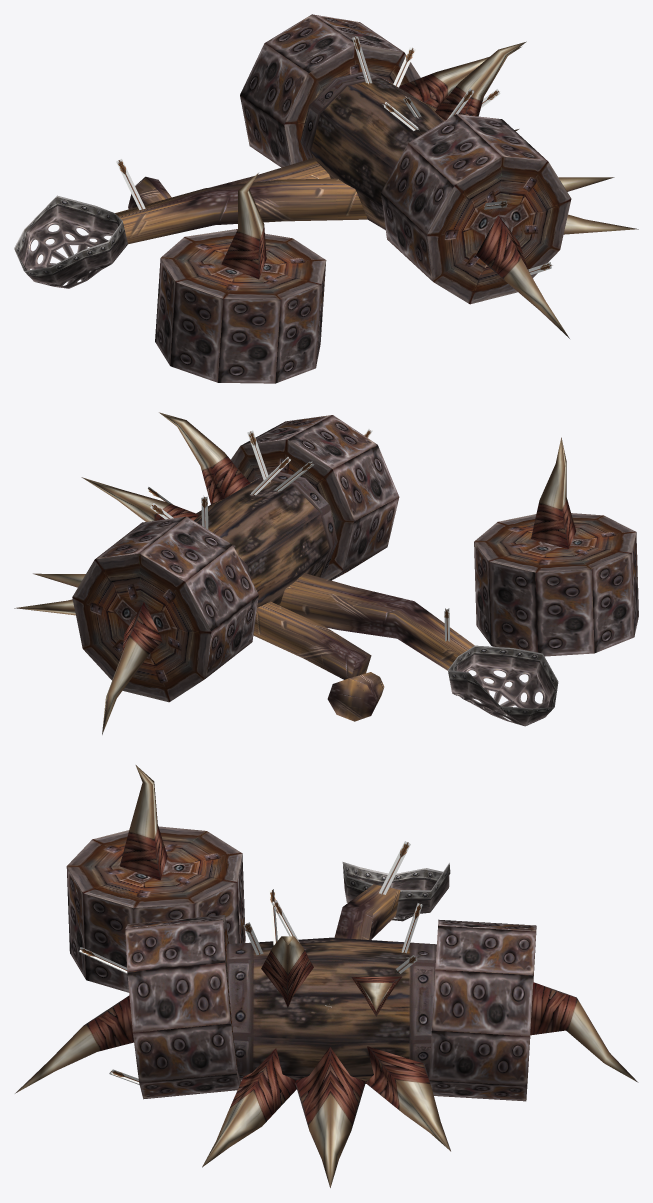
File: ruinedcatapult.obj
3 renders of one model, top to bottom at view 1: azimuth 30°, elevation 25°; view 2: azimuth 150°, elevation 25°; view 3: azimuth 270°, elevation 25°, orthographic. The views are drawn at different scales.
Visible parts, largest first — view 1: Geoset3, Geoset4, Geoset2, Geoset1, Geoset0, Geoset5; view 2: Geoset3, Geoset4, Geoset2, Geoset0, Geoset1, Geoset5; view 3: Geoset3, Geoset2, Geoset1, Geoset4, Geoset0, Geoset5.
Boxes of the visible parts, <box> form: Geoset3: <box>155,14,547,383</box>; Geoset4: <box>161,45,571,304</box>; Geoset2: <box>14,41,638,338</box>; Geoset1: <box>300,71,444,229</box>; Geoset0: <box>115,158,367,244</box>; Geoset5: <box>116,36,552,274</box>; Geoset3: <box>95,415,638,678</box>; Geoset4: <box>72,439,636,702</box>; Geoset2: <box>14,412,576,734</box>; Geoset0: <box>253,573,474,721</box>; Geoset1: <box>194,470,337,607</box>; Geoset5: <box>146,429,449,641</box>; Geoset3: <box>66,853,536,1101</box>; Geoset2: <box>15,765,638,1187</box>; Geoset1: <box>227,937,436,1083</box>; Geoset4: <box>67,826,536,1093</box>; Geoset0: <box>334,884,400,939</box>; Geoset5: <box>79,841,422,1084</box>.
Bounding box in the file's own units: 9.87 × 3.16 × 8.96.
Materials: 6 (6 with a texture image).
